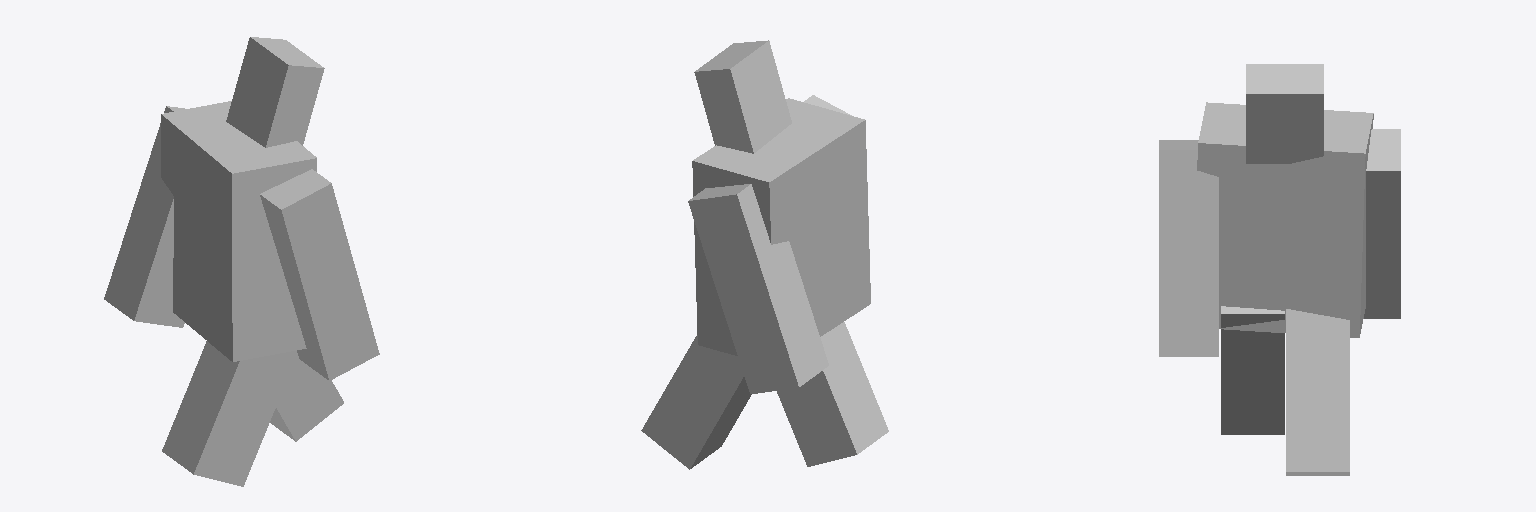
File: walk_000007.obj
The picture shows the model from 3 angles: view 1: azimuth 30°, elevation 25°; view 2: azimuth 150°, elevation 25°; view 3: azimuth 270°, elevation 25°; orthographic projection.
Parts seen in each view (by area): view 1: Cube, leg.002_Cube.006, leg.001_Cube.007, leg.003_Cube.002, Cube.001_Cube.003, leg_Cube.001; view 2: Cube, leg.003_Cube.002, leg.001_Cube.007, leg_Cube.001, Cube.001_Cube.003; view 3: Cube, leg.002_Cube.006, leg_Cube.001, leg.001_Cube.007, leg.003_Cube.002, Cube.001_Cube.003, Plane.002.
Boxes of the visible parts, x1,y1,x2,y2 form: Cube: [161, 101, 316, 361]; leg.002_Cube.006: [260, 169, 379, 380]; leg.001_Cube.007: [162, 341, 297, 486]; leg.003_Cube.002: [104, 106, 184, 327]; Cube.001_Cube.003: [226, 37, 324, 147]; leg_Cube.001: [270, 355, 343, 441]; Cube: [692, 98, 870, 355]; leg.003_Cube.002: [688, 184, 828, 393]; leg.001_Cube.007: [777, 322, 888, 466]; leg_Cube.001: [641, 335, 751, 469]; Cube.001_Cube.003: [694, 40, 791, 153]; Cube: [1197, 102, 1373, 337]; leg.002_Cube.006: [1159, 140, 1218, 356]; leg_Cube.001: [1286, 309, 1349, 475]; leg.001_Cube.007: [1221, 306, 1284, 434]; leg.003_Cube.002: [1364, 129, 1400, 318]; Cube.001_Cube.003: [1246, 64, 1323, 163]; Plane.002: [1260, 133, 1310, 156].
Size of the model in its own units: 3.04 by 6.31 by 3.47.